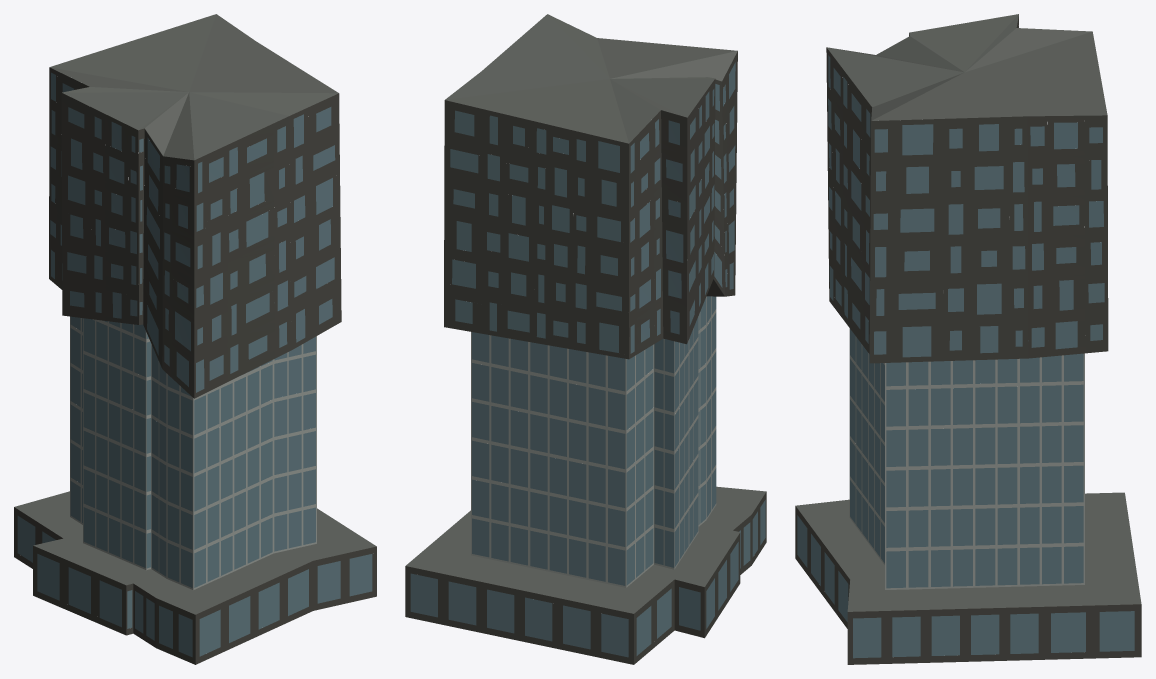
Rendered from the-rock-amsterdam-far.glb.
3 views of the same model, side by side, from view 1: azimuth 30°, elevation 25°; view 2: azimuth 150°, elevation 25°; view 3: azimuth 270°, elevation 25° (orthographic). The views are drawn at different scales.
Parts seen in each view (by area): view 1: the-rock-amsterdam-0-glass, the-rock-amsterdam-0-stone, the-rock-amsterdam-0-roof, the-rock-amsterdam-0-metal; view 2: the-rock-amsterdam-0-glass, the-rock-amsterdam-0-stone, the-rock-amsterdam-0-roof, the-rock-amsterdam-0-metal; view 3: the-rock-amsterdam-0-glass, the-rock-amsterdam-0-stone, the-rock-amsterdam-0-roof, the-rock-amsterdam-0-metal.
Part boxes in pixels (x1,y1,x2,y2): the-rock-amsterdam-0-glass: (17,72,372,657); the-rock-amsterdam-0-stone: (14,67,376,664); the-rock-amsterdam-0-roof: (14,14,376,614); the-rock-amsterdam-0-metal: (70,316,316,589); the-rock-amsterdam-0-glass: (410,62,765,657); the-rock-amsterdam-0-stone: (405,51,766,664); the-rock-amsterdam-0-roof: (406,14,766,613); the-rock-amsterdam-0-metal: (471,296,716,587); the-rock-amsterdam-0-glass: (797,55,1134,658); the-rock-amsterdam-0-stone: (795,16,1141,664); the-rock-amsterdam-0-roof: (796,14,1141,611); the-rock-amsterdam-0-metal: (849,328,1084,589).
Bounding box in the file's own units: 48.24 × 90 × 53.24.
